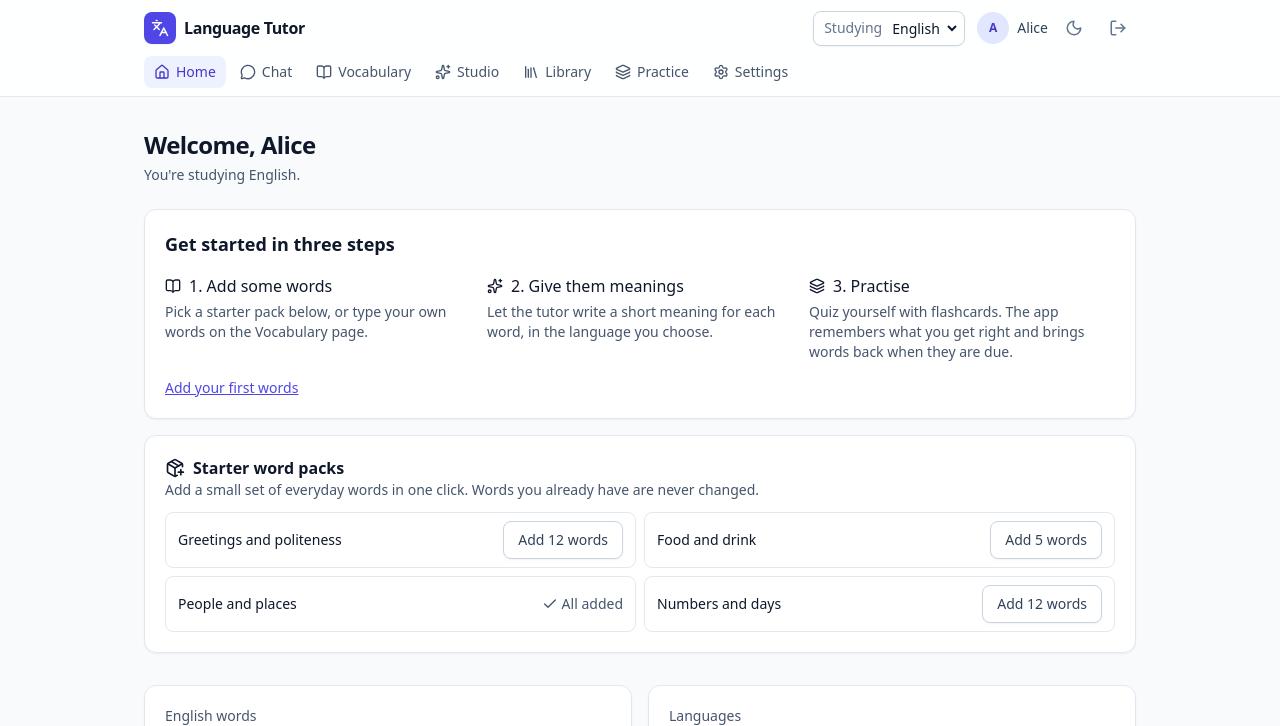
Scenario: starter packs › says the words came with English meanings when they did
Click the button with aria-label "Greetings and politeness: Add 12 words": [563, 540] box [503, 521, 623, 559]
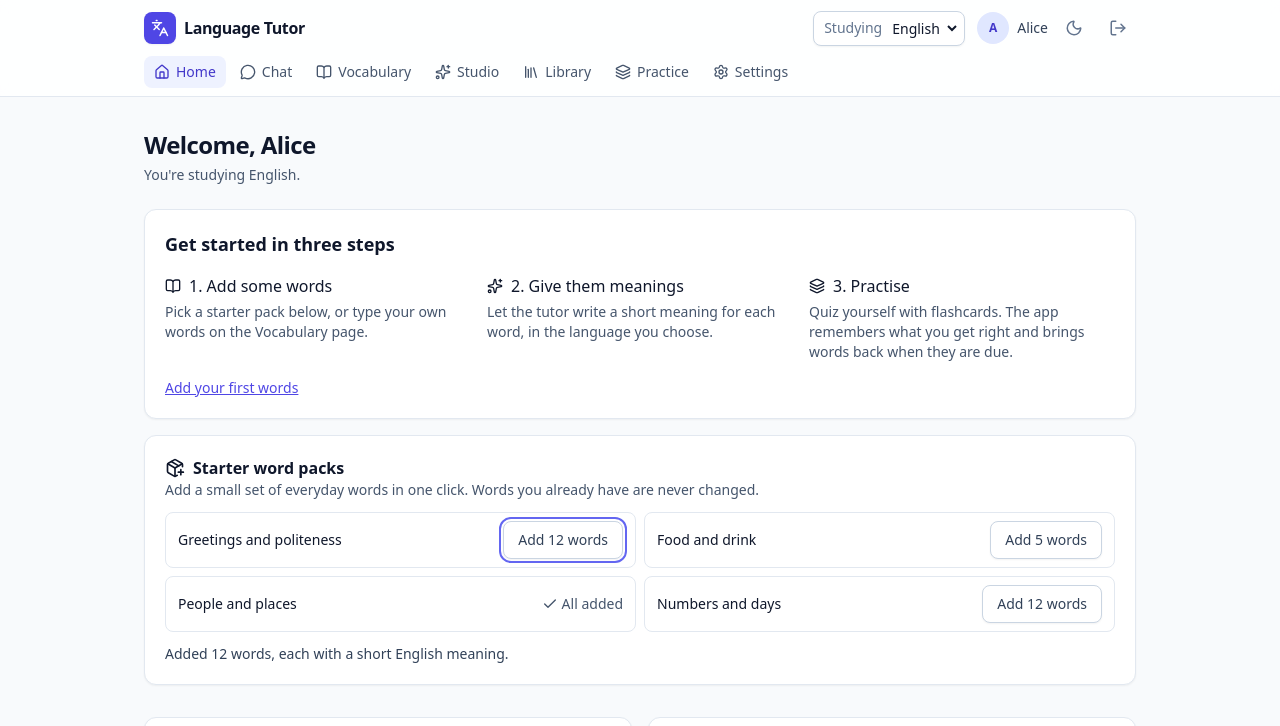
Now the text "Added 12 words, each with a short English meaning." is shown, box [165, 644, 509, 663]
